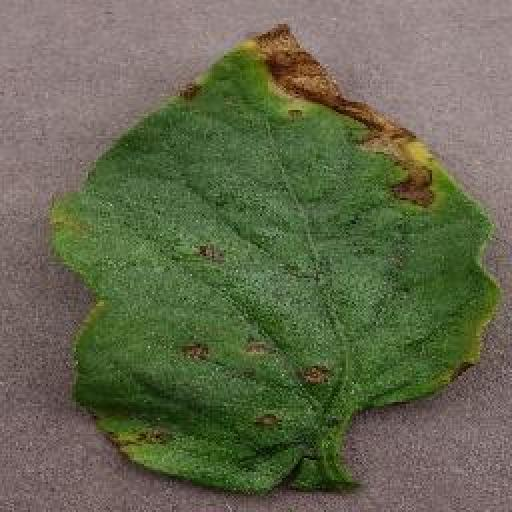Bacterial Spot: (54, 17, 502, 496)
